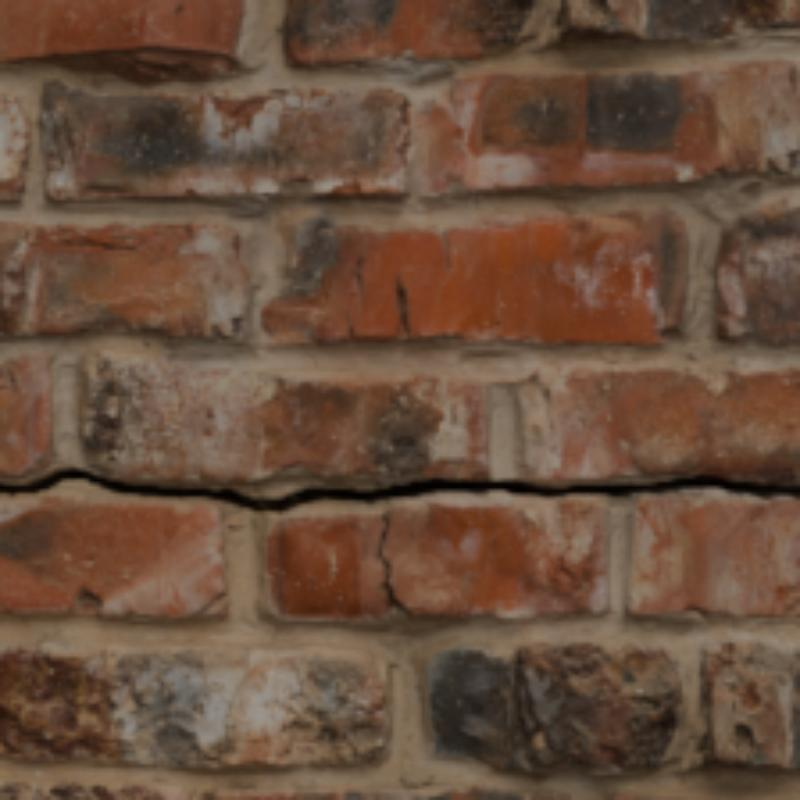crack: (4, 469, 796, 511), (379, 511, 414, 614)
